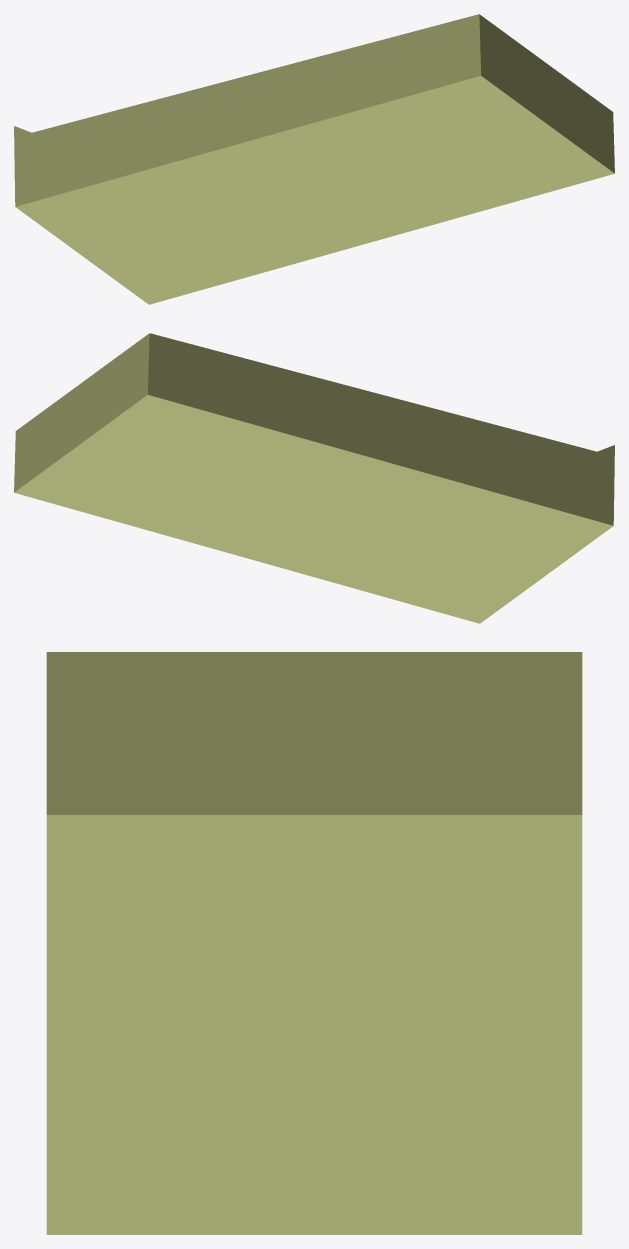
3 views of the same model, one above another, from view 1: azimuth 30°, elevation 25°; view 2: azimuth 150°, elevation 25°; view 3: azimuth 270°, elevation 25° (orthographic). The views are drawn at different scales.
Parts seen in each view (by area): view 1: 0_0_2_0_1_1_0_3_2_1; view 2: 0_0_2_0_1_1_0_3_2_1; view 3: 0_0_2_0_1_1_0_3_2_1.
Boxes of the visible parts, x1,y1,x2,y2 form: 0_0_2_0_1_1_0_3_2_1: (14,14,614,304); 0_0_2_0_1_1_0_3_2_1: (14,333,614,623); 0_0_2_0_1_1_0_3_2_1: (46,652,582,1234).
Bounding box in the file's own units: 18.14 × 3 × 9.
